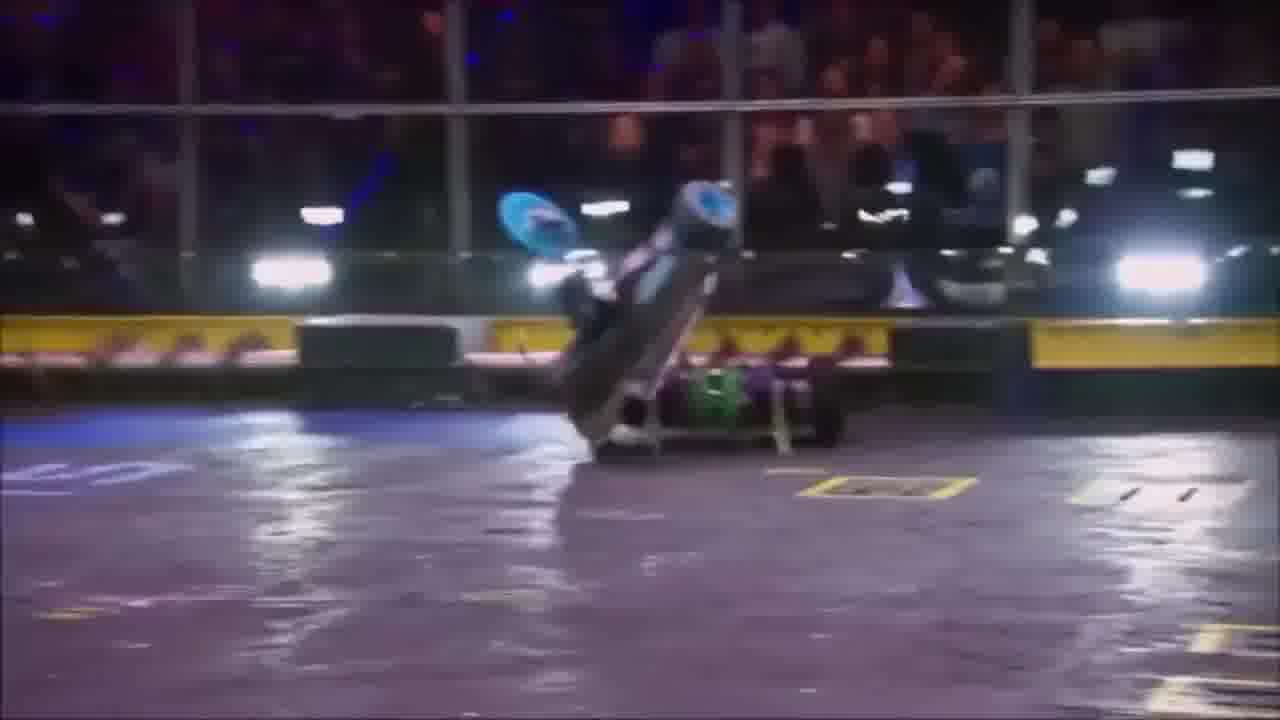combatbot: (561, 178, 743, 442), (598, 351, 837, 454)
